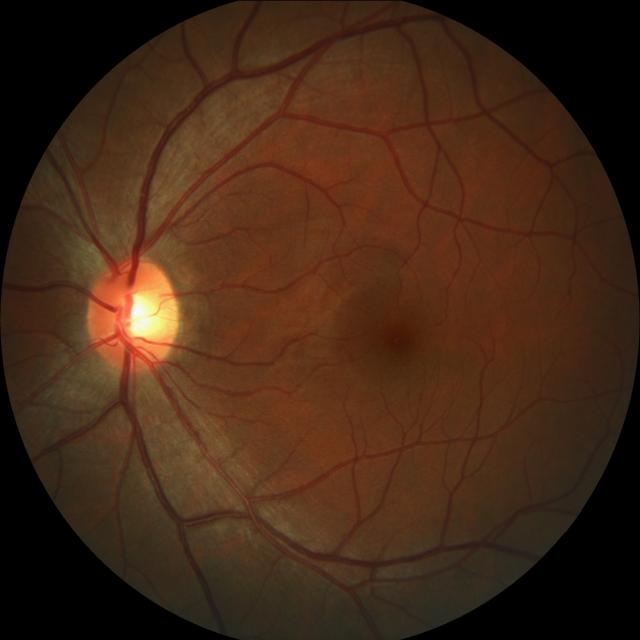OC: (113, 284, 162, 346)
OD: (85, 256, 177, 370)
